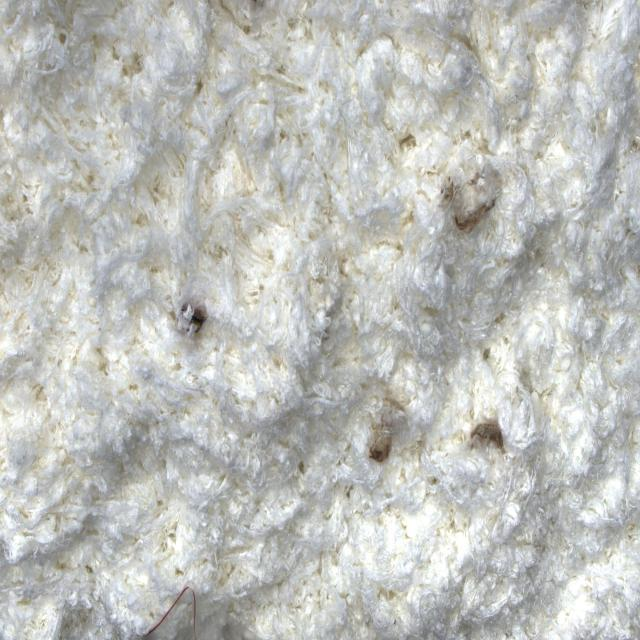dust: (137, 555, 208, 639), (168, 267, 217, 374), (354, 406, 408, 503), (460, 387, 514, 481), (433, 176, 506, 238)
